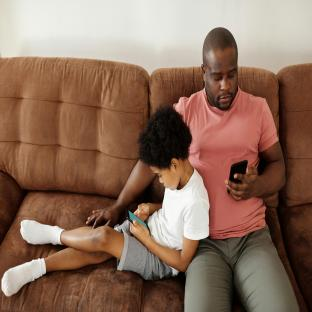Human: (1, 106, 209, 296), (175, 28, 299, 312), (86, 161, 155, 228)
